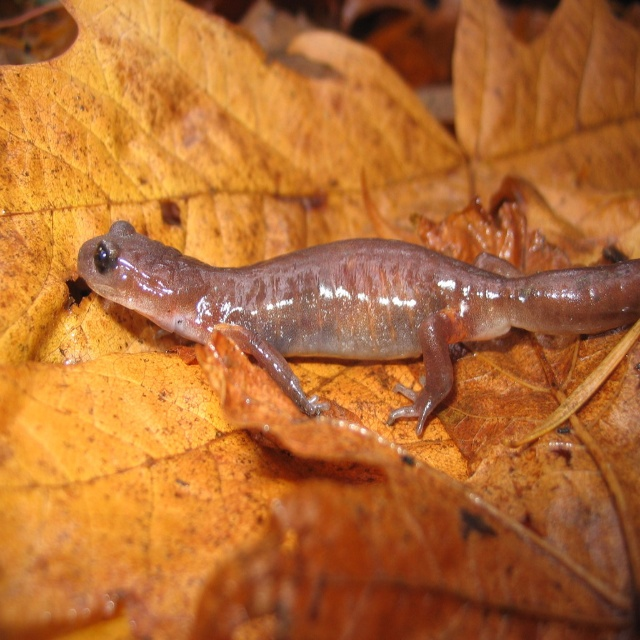Lizard: (64, 206, 638, 466)
